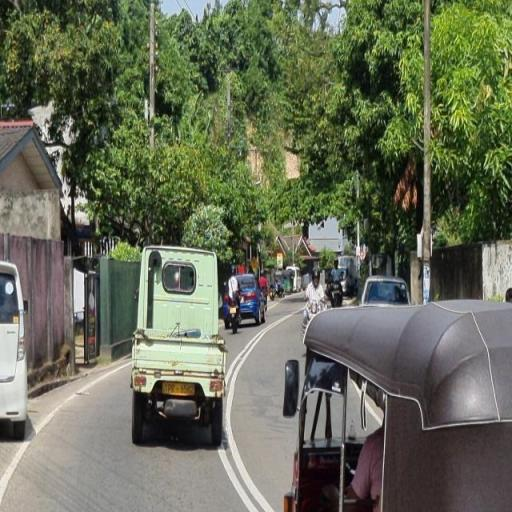double_white_line: (220, 429, 275, 512)
